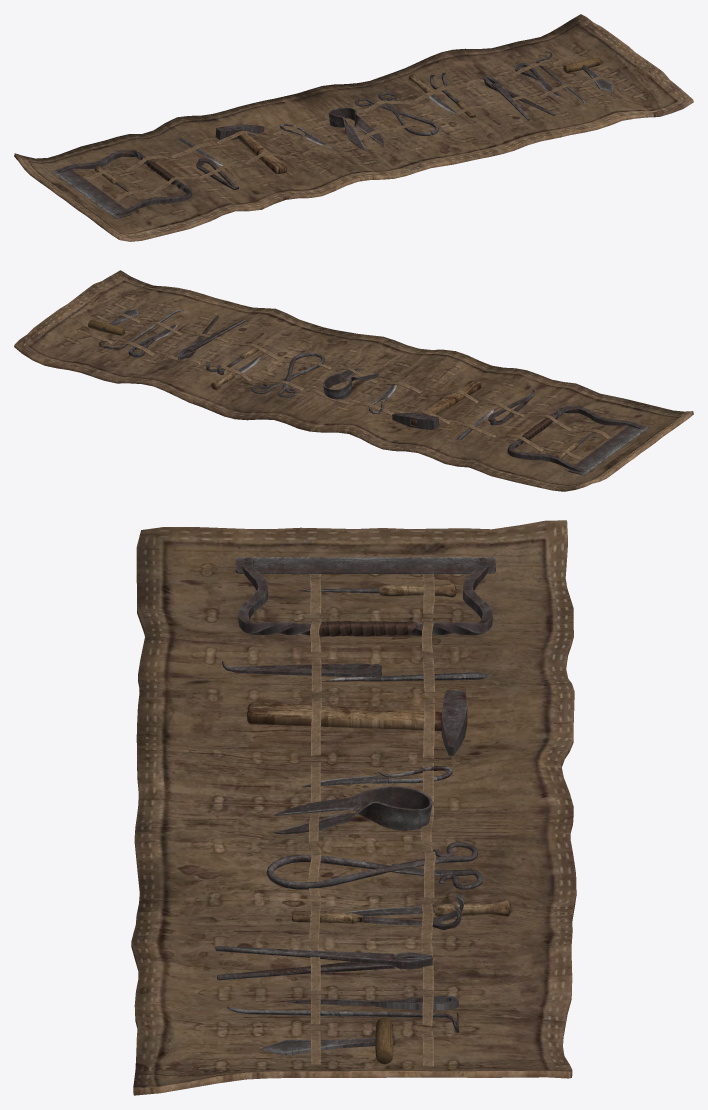
Rendered from tool-roll.glb.
The picture shows the model from 3 angles, top to bottom: view 1: azimuth 30°, elevation 25°; view 2: azimuth 150°, elevation 25°; view 3: azimuth 270°, elevation 25°; orthographic projection. The views are drawn at different scales.
Visible parts, largest first — view 1: tortureTool_tortureTools_0; view 2: tortureTool_tortureTools_0; view 3: tortureTool_tortureTools_0.
Part boxes in pixels (x1,y1,x2,y2): tortureTool_tortureTools_0: [14, 14, 693, 241]; tortureTool_tortureTools_0: [14, 270, 693, 491]; tortureTool_tortureTools_0: [131, 520, 576, 1095].
Size of the model in its own units: 407 by 14.97 by 137.
Materials: 1 (1 with a texture image).
